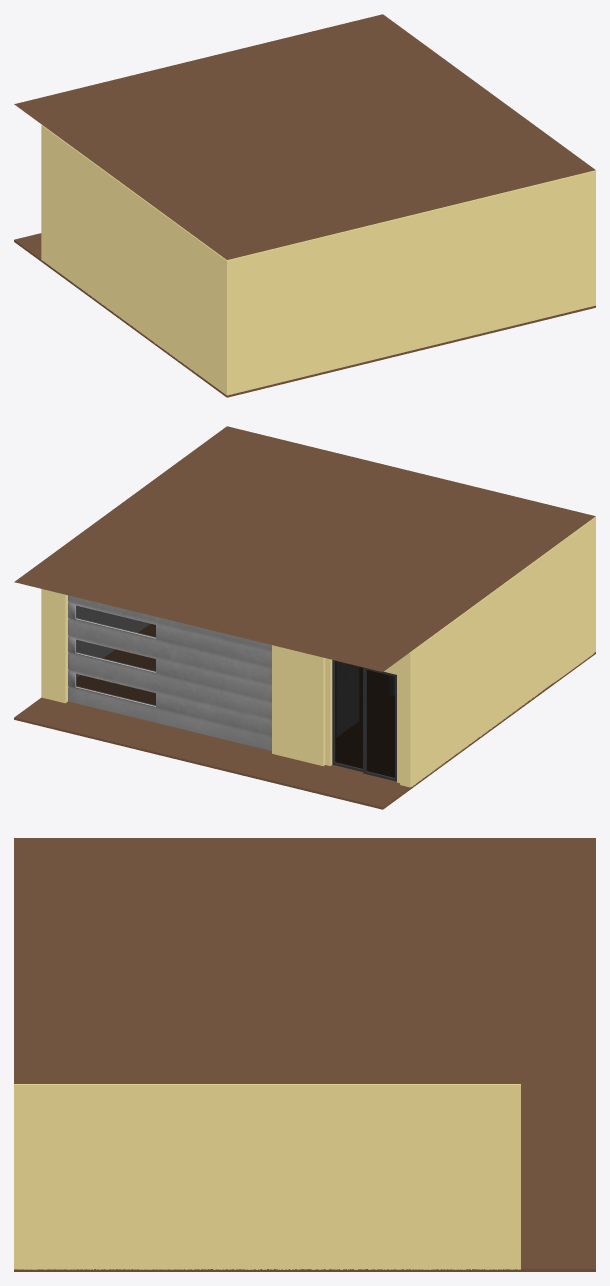
Rendered from Cabin-transformed.glb.
3 views of the same model, one above another, from view 1: azimuth 30°, elevation 25°; view 2: azimuth 150°, elevation 25°; view 3: azimuth 270°, elevation 25° (orthographic). The views are drawn at different scales.
Parts seen in each view (by area): view 1: polySurface1_lambert2_0.001, polySurface5_standardSurface1_0, polySurface5_lambert2_0; view 2: polySurface1_lambert2_0.001, polySurface5_standardSurface1_0, gar_door_phongE3_0, polySurface1_lambert2_0, gar_door_glass_0, window6_glass_0, window7_glass_0, polySurface5_lambert2_0, polySurface3_lambert3_0, polySurface5_phong3_0, window6_phongE2_0, window7_phongE2_0; view 3: polySurface1_lambert2_0.001, polySurface5_standardSurface1_0, polySurface1_lambert2_0, polySurface5_lambert2_0.
Boxes of the visible parts, x1,y1,x2,y2 form: polySurface1_lambert2_0.001: (14, 14, 595, 259); polySurface5_standardSurface1_0: (41, 125, 595, 395); polySurface5_lambert2_0: (14, 240, 595, 397); polySurface1_lambert2_0.001: (14, 426, 595, 671); polySurface5_standardSurface1_0: (41, 517, 595, 787); gar_door_phongE3_0: (68, 595, 271, 750); polySurface1_lambert2_0: (14, 624, 409, 807); gar_door_glass_0: (76, 605, 155, 705); window6_glass_0: (366, 670, 394, 777); window7_glass_0: (335, 661, 362, 768); polySurface5_lambert2_0: (14, 652, 595, 809); polySurface3_lambert3_0: (337, 662, 394, 736); polySurface5_phong3_0: (77, 606, 149, 676); window6_phongE2_0: (363, 667, 396, 781); window7_phongE2_0: (332, 660, 363, 771); polySurface1_lambert2_0.001: (14, 838, 595, 1083); polySurface5_standardSurface1_0: (14, 1084, 520, 1269); polySurface1_lambert2_0: (521, 1084, 595, 1268); polySurface5_lambert2_0: (14, 1269, 595, 1271).
Size of the model in its own units: 0.24 by 0.086 by 0.24.
Materials: 9 (5 with a texture image).
